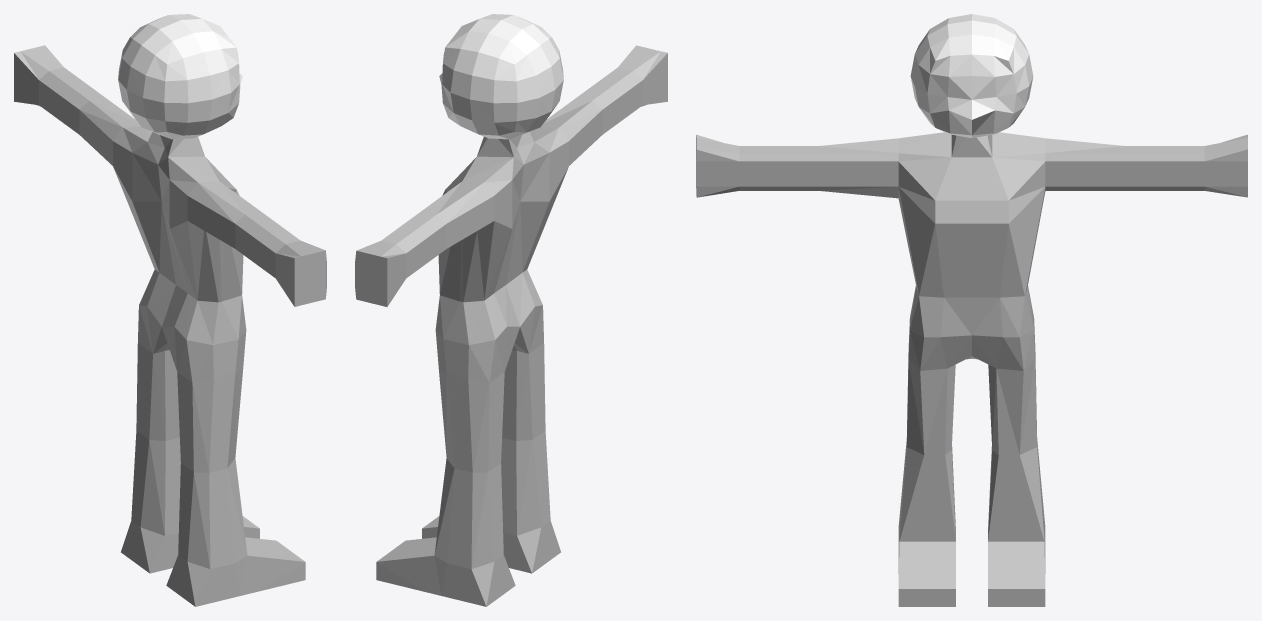
File: hurman.obj
3 views of the same model, side by side, from view 1: azimuth 30°, elevation 25°; view 2: azimuth 150°, elevation 25°; view 3: azimuth 270°, elevation 25° (orthographic).
Visible parts, largest first — view 1: 立方体; view 2: 立方体; view 3: 立方体.
Part boxes in pixels (box(x1,y1,x2,y2)): 立方体: box(14, 14, 326, 606); 立方体: box(355, 14, 667, 606); 立方体: box(696, 14, 1247, 606).
Size of the model in its own units: 1.88 by 7.05 by 6.47.
